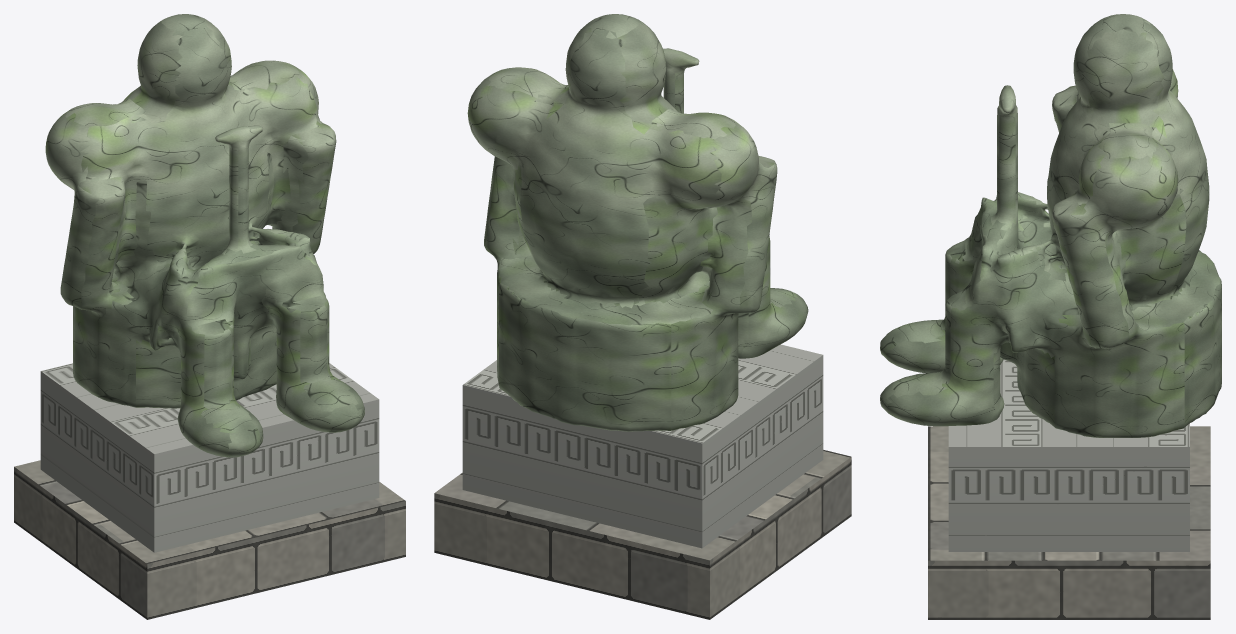
Rendered from statue.glb.
3 renders of one model, left to right at view 1: azimuth 30°, elevation 25°; view 2: azimuth 150°, elevation 25°; view 3: azimuth 270°, elevation 25°, orthographic. The views are drawn at different scales.
Visible parts, largest first — view 1: statue; view 2: statue; view 3: statue.
Part boxes in pixels (bbox=[...]): statue: bbox=[14, 14, 405, 619]; statue: bbox=[434, 14, 851, 619]; statue: bbox=[880, 14, 1221, 619].
Bounding box in the file's own units: 1.86 × 3.42 × 1.98.
3 materials, 3 textured.
